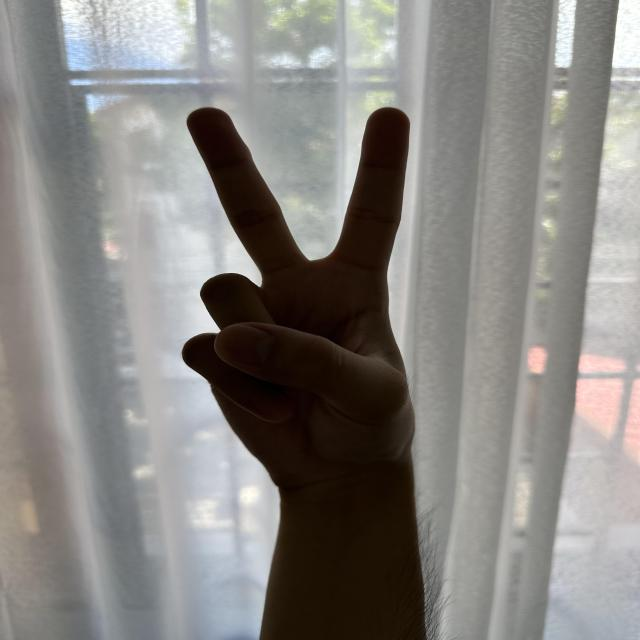V: (180, 102, 419, 490)
